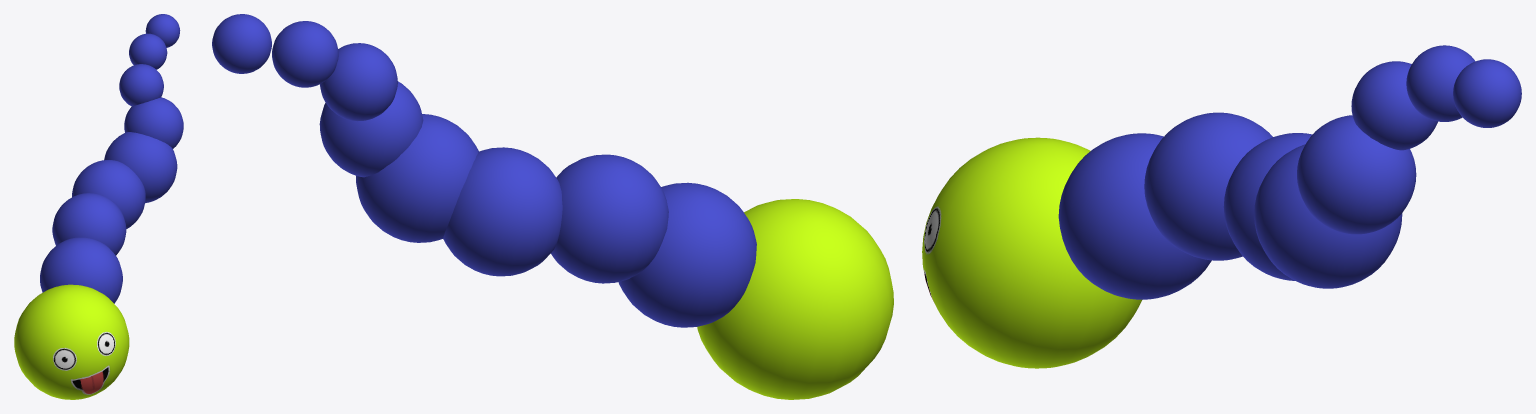
The model's file is StandardSkin.fbx.
3 renders of one model, left to right at view 1: azimuth 30°, elevation 25°; view 2: azimuth 150°, elevation 25°; view 3: azimuth 270°, elevation 25°, orthographic. The views are drawn at different scales.
Visible parts, largest first — view 1: node_id26, node_id28, node_id30, node_id34, node_id32, node_id36, node_id38, node_id40, node_id42; view 2: node_id26, node_id28, node_id30, node_id32, node_id34, node_id36, node_id38, node_id40, node_id42; view 3: node_id26, node_id28, node_id30, node_id36, node_id34, node_id38, node_id32, node_id42, node_id40.
Part boxes in pixels (x1=…): node_id26: x1=14, y1=284, x2=129, y2=399; node_id28: x1=40, y1=237, x2=122, y2=303; node_id30: x1=52, y1=193, x2=126, y2=255; node_id34: x1=104, y1=132, x2=177, y2=203; node_id32: x1=72, y1=160, x2=145, y2=228; node_id36: x1=124, y1=97, x2=183, y2=148; node_id38: x1=119, y1=64, x2=163, y2=106; node_id40: x1=129, y1=33, x2=167, y2=69; node_id42: x1=145, y1=14, x2=180, y2=47; node_id26: x1=697, y1=199, x2=893, y2=399; node_id28: x1=618, y1=182, x2=756, y2=327; node_id30: x1=551, y1=154, x2=668, y2=283; node_id32: x1=443, y1=147, x2=562, y2=276; node_id34: x1=356, y1=114, x2=478, y2=242; node_id36: x1=319, y1=81, x2=423, y2=177; node_id38: x1=320, y1=43, x2=397, y2=121; node_id40: x1=272, y1=21, x2=338, y2=87; node_id42: x1=212, y1=14, x2=271, y2=73; node_id26: x1=922, y1=137, x2=1142, y2=368; node_id28: x1=1058, y1=133, x2=1211, y2=299; node_id30: x1=1144, y1=112, x2=1272, y2=260; node_id36: x1=1297, y1=115, x2=1416, y2=234; node_id34: x1=1254, y1=144, x2=1402, y2=288; node_id38: x1=1351, y1=61, x2=1437, y2=150; node_id32: x1=1223, y1=133, x2=1312, y2=280; node_id42: x1=1453, y1=59, x2=1521, y2=127; node_id40: x1=1406, y1=45, x2=1475, y2=121.
Bounding box in the file's own units: 0.8456 × 0.7433 × 0.8181.
7 materials, 7 textured.
